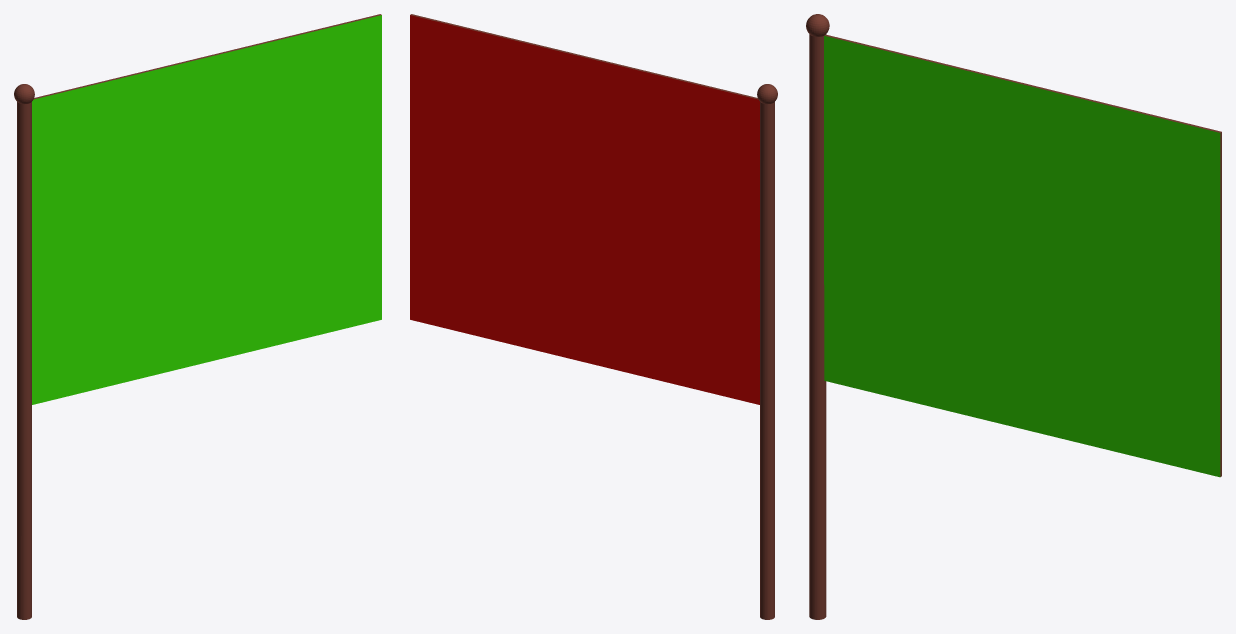
File: Flag.fbx
3 renders of one model, left to right at view 1: azimuth 30°, elevation 25°; view 2: azimuth 150°, elevation 25°; view 3: azimuth 330°, elevation 25°, orthographic. The views are drawn at different scales.
Visible parts, largest first — view 1: Flag; view 2: Flag; view 3: Flag.
Boxes of the visible parts, x1,y1,x2,y2 form: Flag: [14, 14, 381, 619]; Flag: [410, 14, 777, 619]; Flag: [806, 14, 1221, 619].
Size of the model in its own units: 80.18 by 111 by 3.97.
